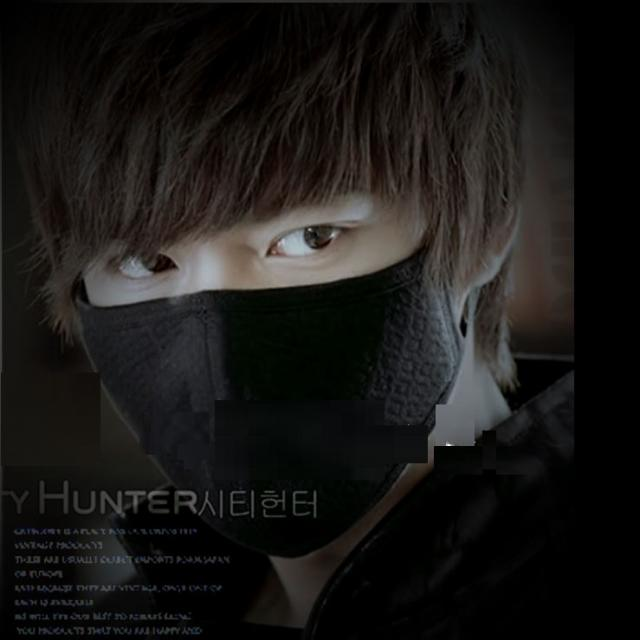mask: (80, 79, 438, 519)
